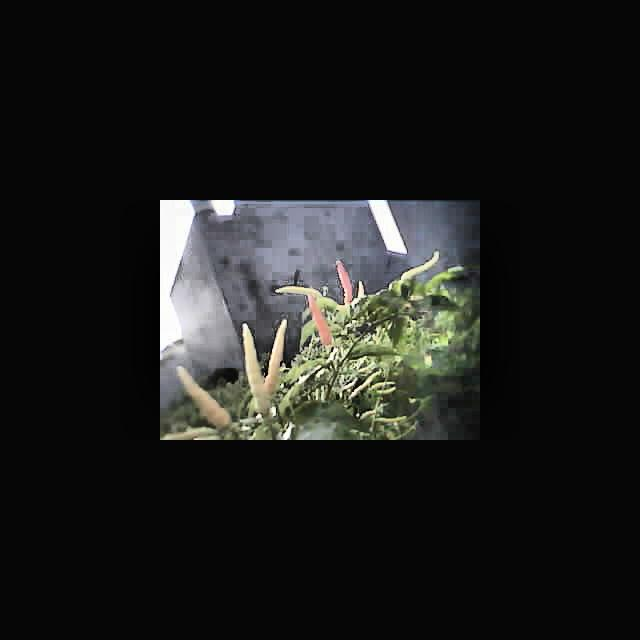Cabai: (300, 294, 335, 350), (331, 259, 352, 310)
